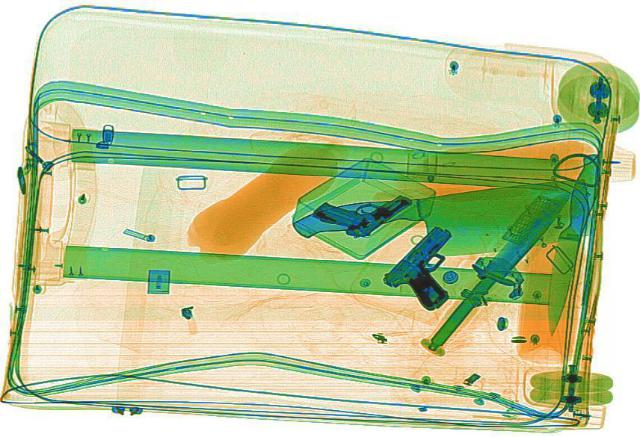Gun: (370, 222, 500, 310), (305, 172, 413, 239)
Knife: (286, 175, 604, 272), (418, 185, 578, 348), (536, 153, 604, 334)
